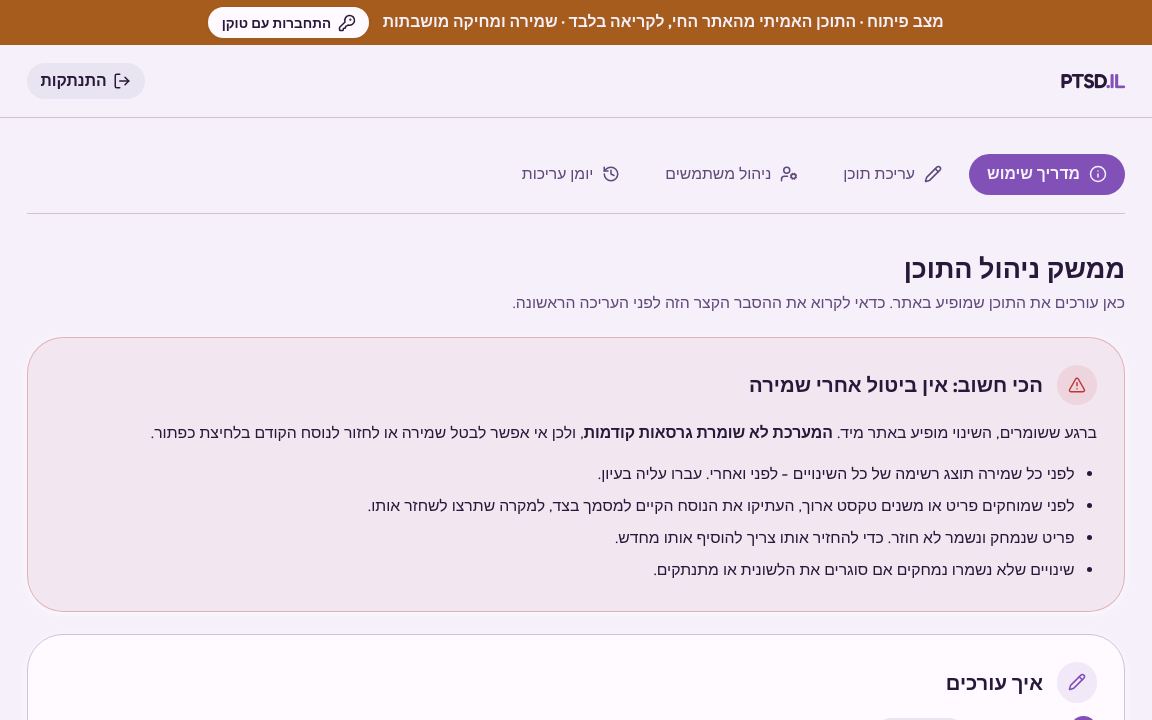
Scenario: admin: treatment methods › renders an editor for every method field when a step is edited
What coordinates should you click on to do the following:
click the button "עריכת תוכן"
I would click on:
 (893, 174)
Its box is [825,154,960,194].
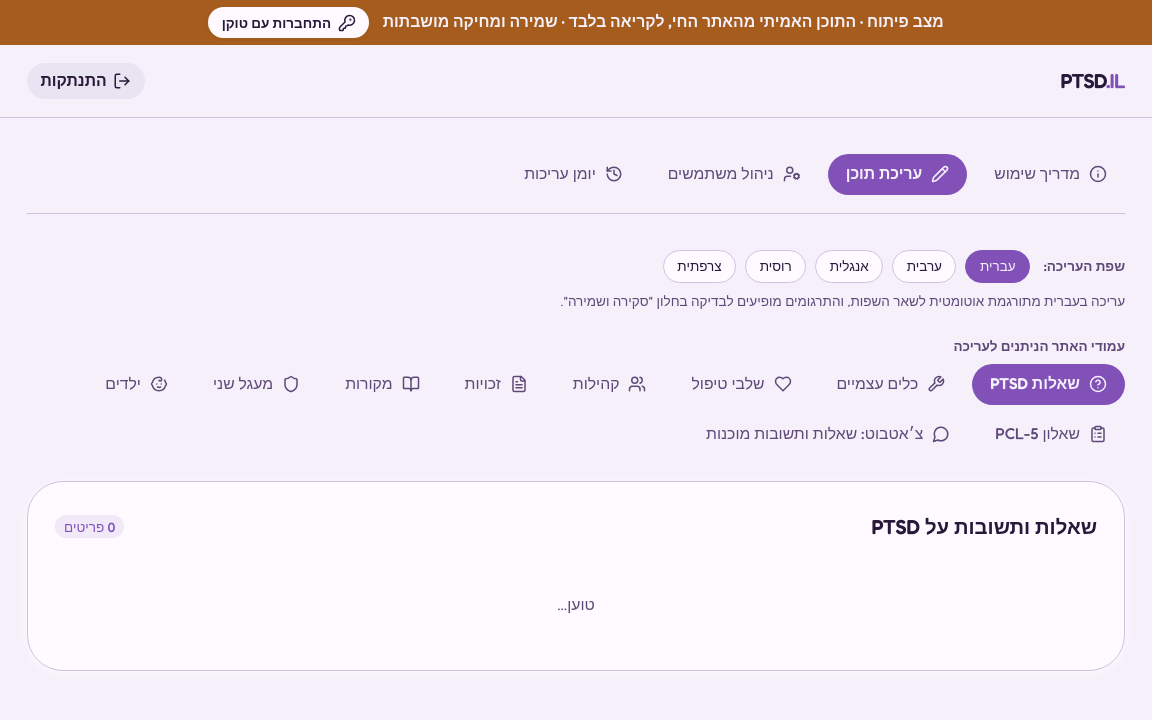
What coordinates should you click on to do the following:
click the button "שלבי טיפול"
I would click on:
 (742, 384)
Its box is [674,364,810,404].
(page scrolled)
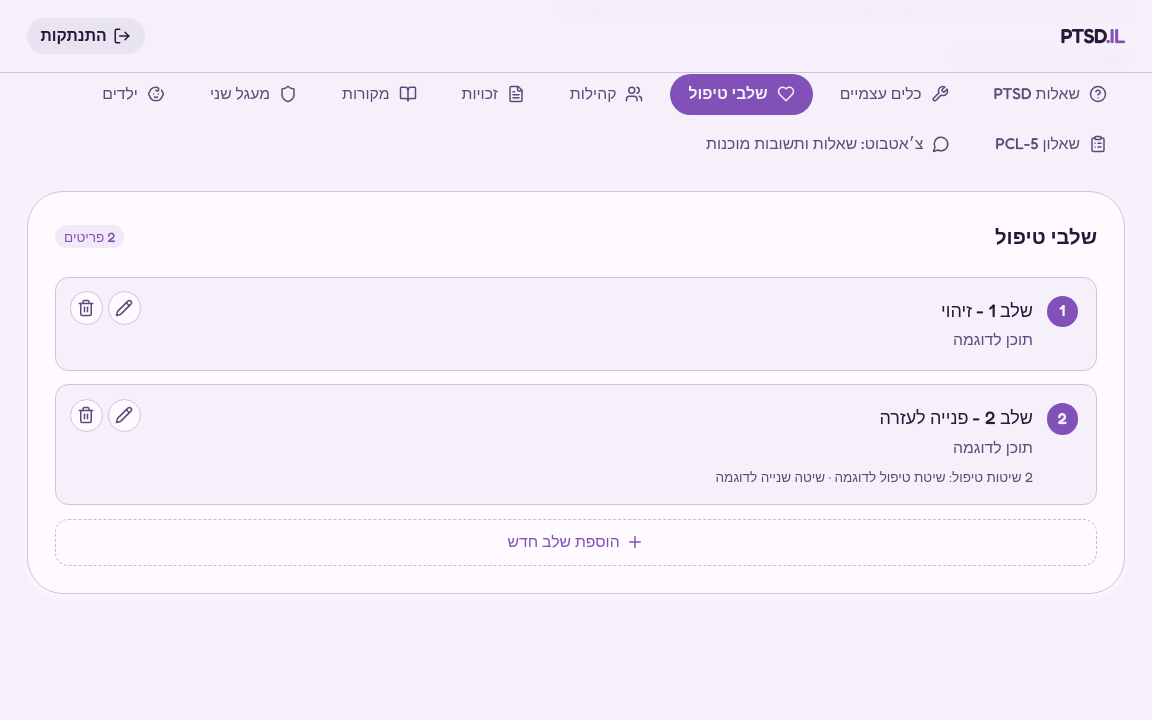
Expected: the text "שלב 2 - פנייה לעזרה" is shown, [879,406,1033,428]
What coordinates should you click on to do the following:
click the button titled "עריכה" in the row of "שלב 2 - פנייה לעזרה"
I would click on:
 (124, 415)
Its box is [108,399,141,432].
(page scrolled)
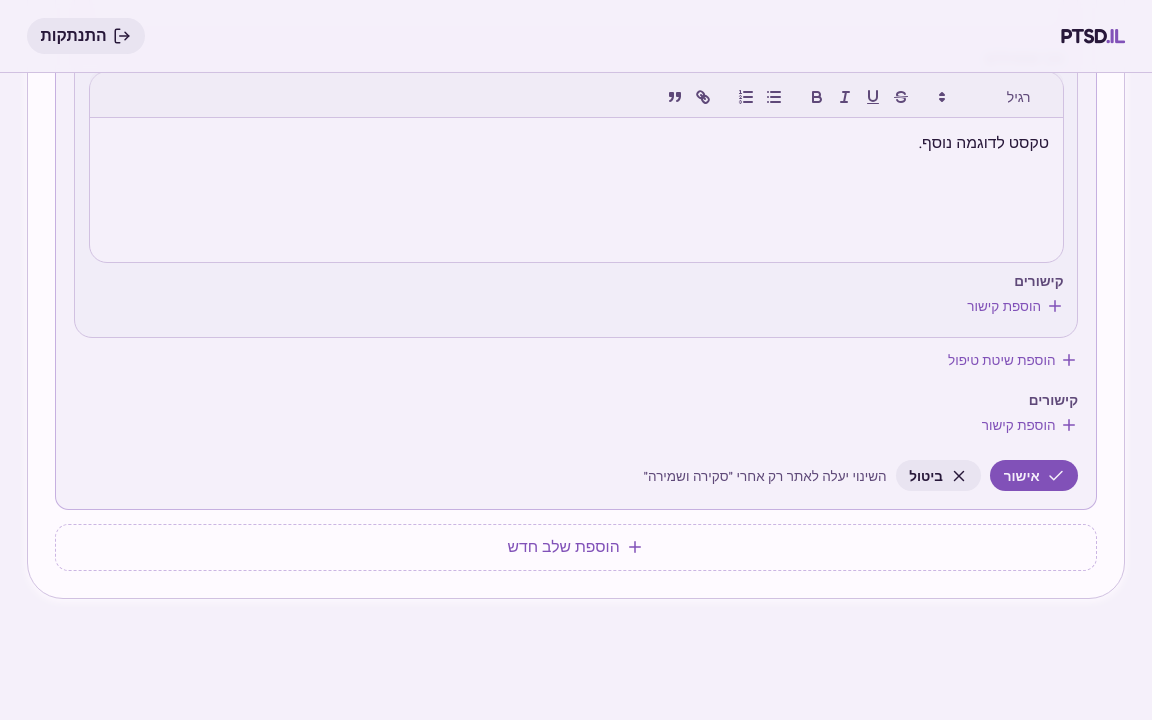
Expected: the button "הוספת שיטת טיפול" is shown, [948,351,1078,369]
